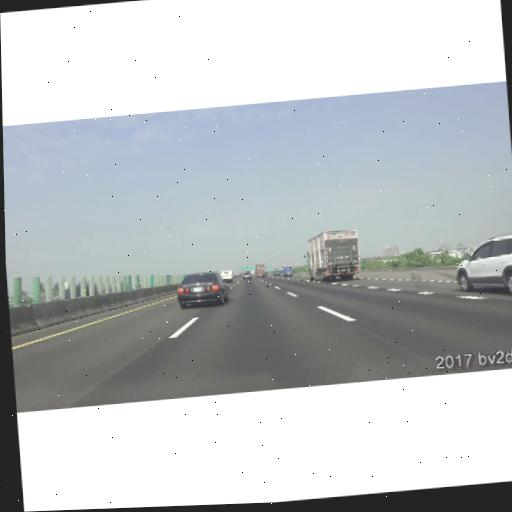Car: (453, 232, 512, 299), (304, 228, 361, 284), (177, 268, 230, 308), (221, 269, 233, 285), (282, 265, 293, 277), (256, 264, 266, 277), (242, 272, 251, 280), (273, 269, 280, 276)
